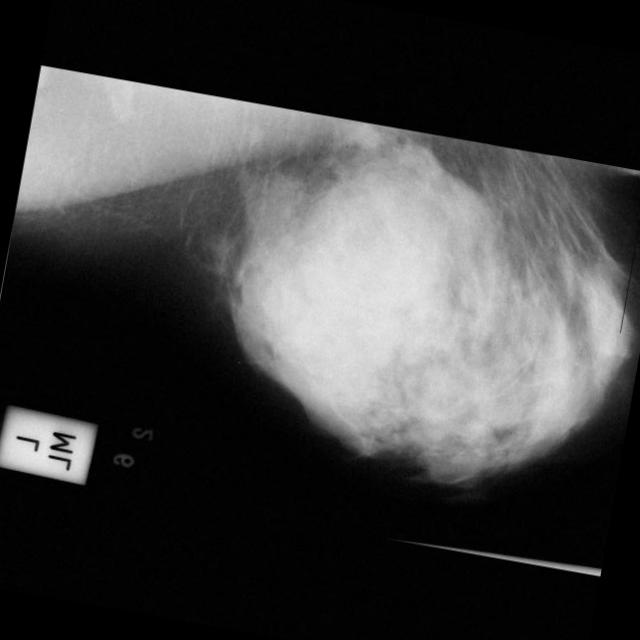ARCH: (362, 374, 434, 447)
